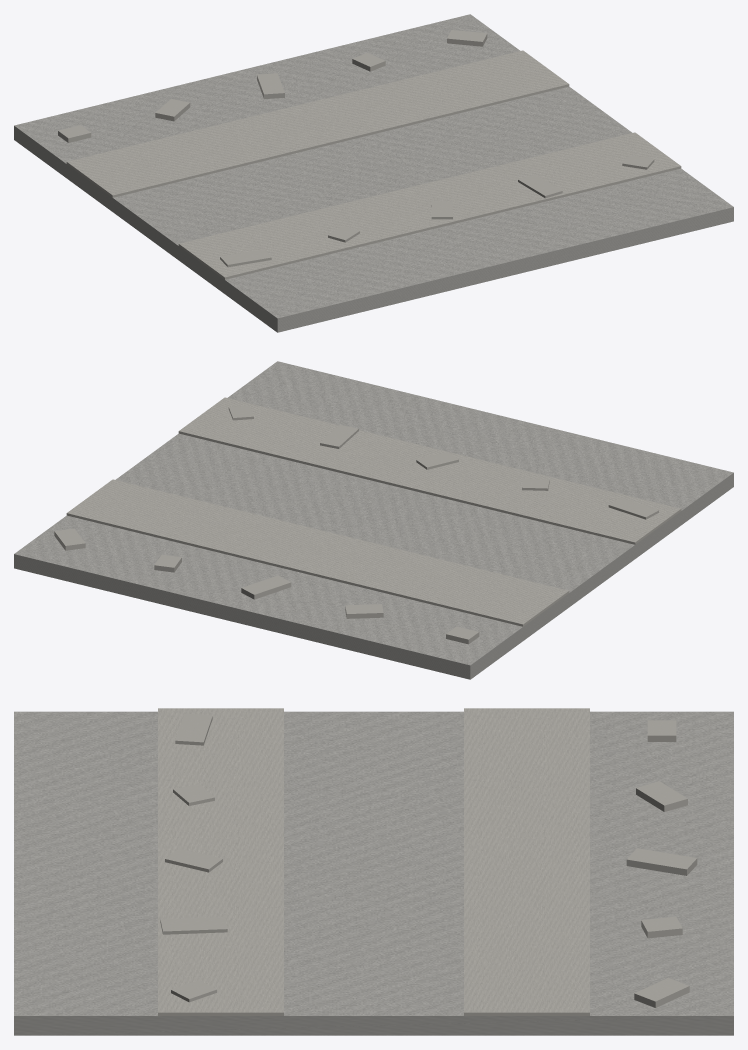
Rendered from distillery-and-bonded-warehouse-yard-grit-tile-012b382f.glb.
The picture shows the model from 3 angles, top to bottom: view 1: azimuth 30°, elevation 25°; view 2: azimuth 150°, elevation 25°; view 3: azimuth 270°, elevation 25°; orthographic projection. The views are drawn at different scales.
Visible parts, largest first — view 1: yard-grit-tile-concrete, yard-grit-tile-stone; view 2: yard-grit-tile-concrete, yard-grit-tile-stone; view 3: yard-grit-tile-concrete, yard-grit-tile-stone.
Part boxes in pixels (x1,y1,x2,y2): yard-grit-tile-concrete: [14, 14, 733, 332]; yard-grit-tile-stone: [58, 30, 681, 279]; yard-grit-tile-concrete: [14, 361, 733, 679]; yard-grit-tile-stone: [54, 397, 681, 644]; yard-grit-tile-concrete: [14, 711, 733, 1035]; yard-grit-tile-stone: [158, 708, 697, 1015].
Size of the model in its own units: 4 by 0.1601 by 4.
2 materials, 2 textured.
